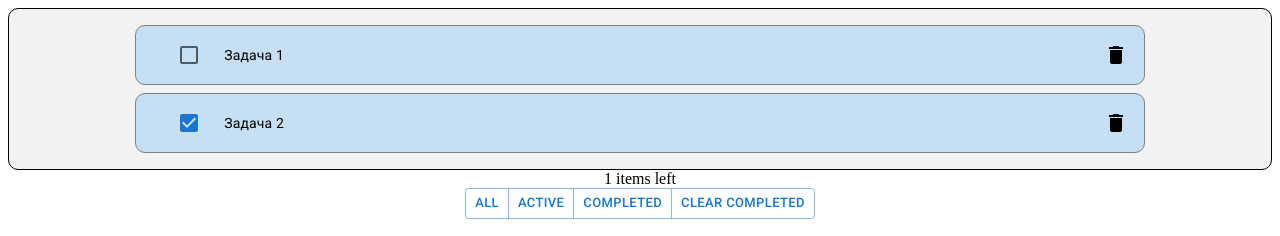
TodoList › Проверка фильтрации задач по статусу
Check: the number of list items is 2, box [135,25,1145,85]; [135,93,1145,153]
# Переключение на активные
Click the button "Active".
click(541, 203)  # box [508,188,574,219]
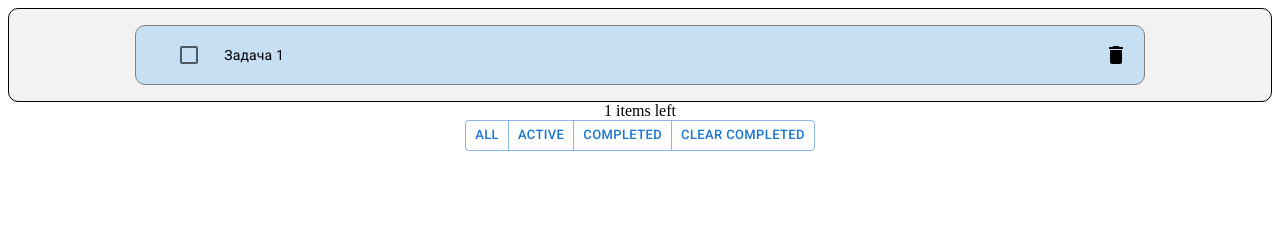
Check: the text "Задача 1" is shown, box [224,47,284,63]
Check: the number of list items is 1, box [135,25,1145,85]
# Переключение на завершенные
Click the button "Completed".
click(623, 135)  # box [573,120,672,151]
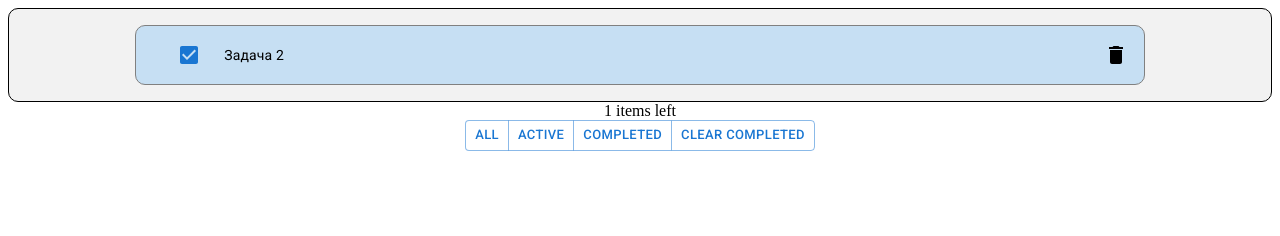
Check: the number of list items is 1, box [135,25,1145,85]
Check: the text "Задача 2" is shown, box [224,47,284,63]
# Переключение на все задачи
Click the button "All".
click(487, 135)  # box [465,120,509,151]
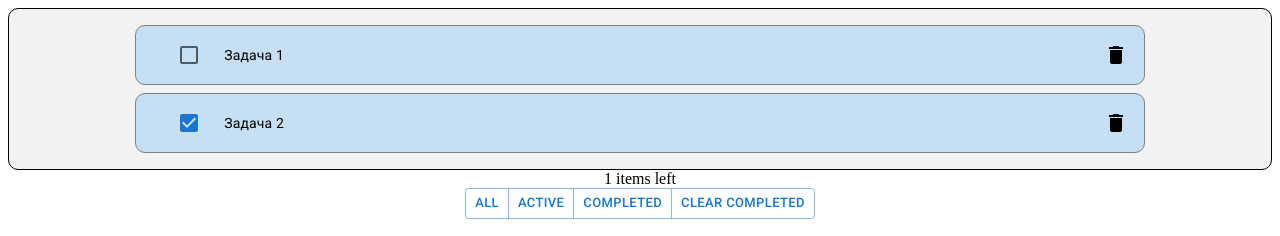
Check: the number of list items is 2, box [135,25,1145,85]; [135,93,1145,153]
